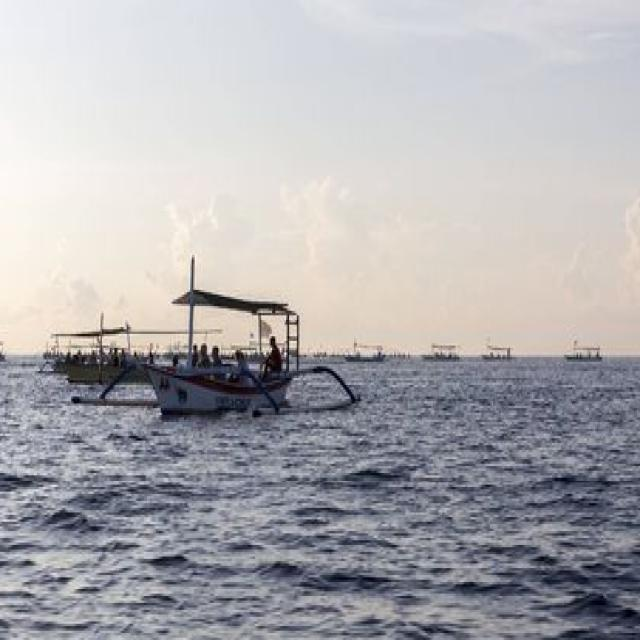fishing boat: (139, 258, 315, 415)
